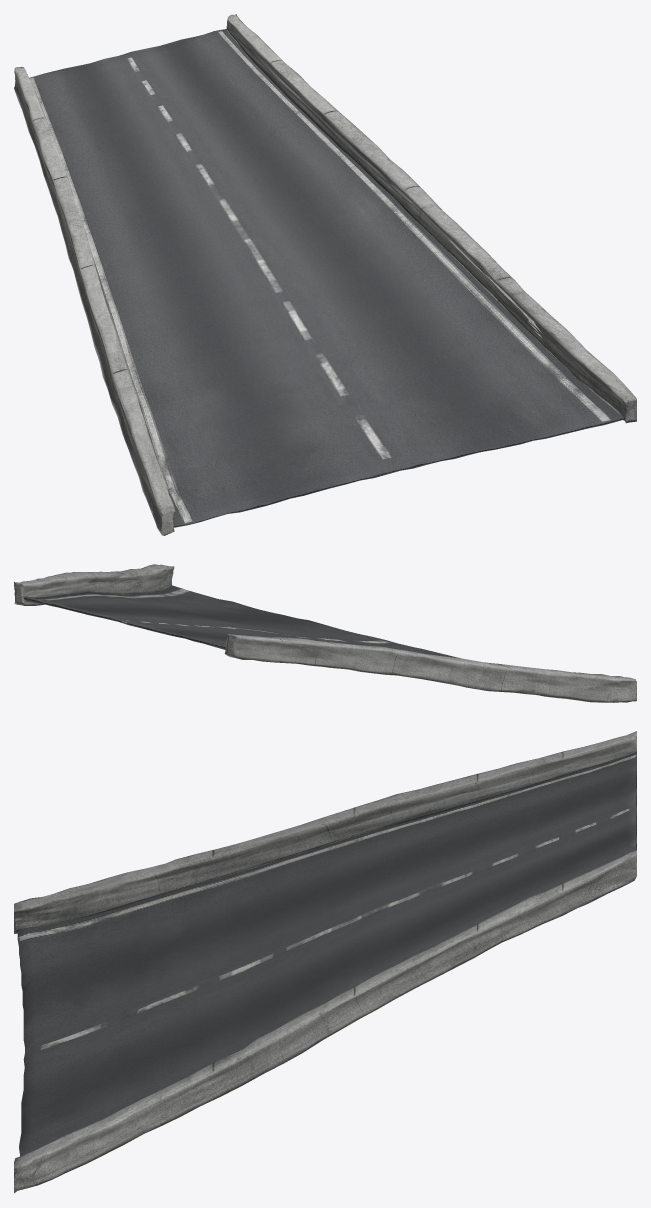
Rendered from Meshy_AI_a_straight_city_road_0917064651_texture.glb.
3 views of the same model, one above another, from view 1: azimuth 30°, elevation 25°; view 2: azimuth 150°, elevation 25°; view 3: azimuth 270°, elevation 25° (orthographic). The views are drawn at different scales.
Size of the model in its own units: 1 by 0.4785 by 1.
Materials: 1 (1 with a texture image).
